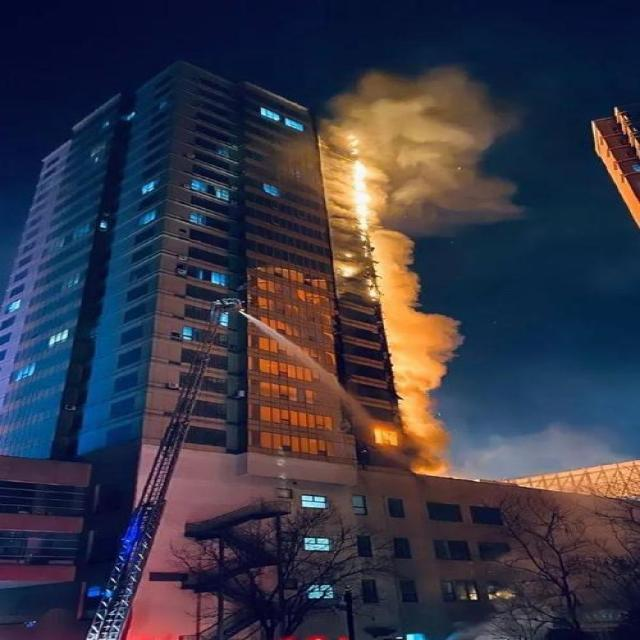Fire: (348, 134, 377, 224)
Smoke: (369, 228, 474, 468), (388, 62, 518, 217)
